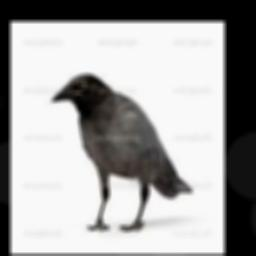Crow: (51, 73, 192, 231)
